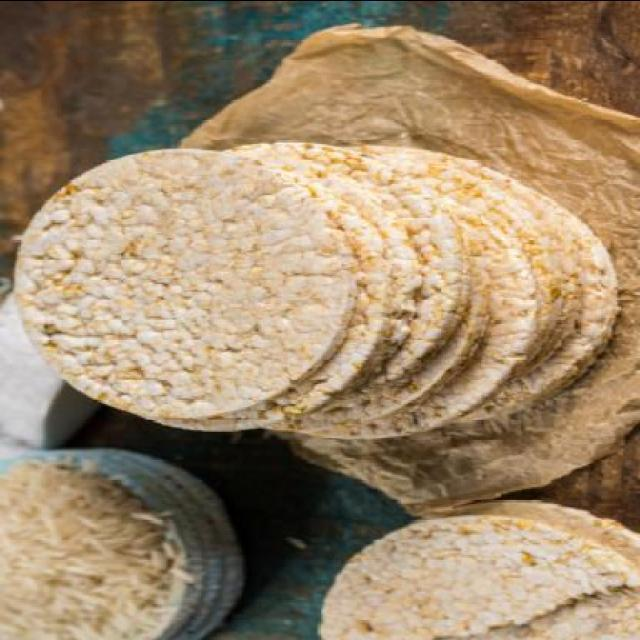Gallette di riso packaged: (14, 143, 618, 435)
